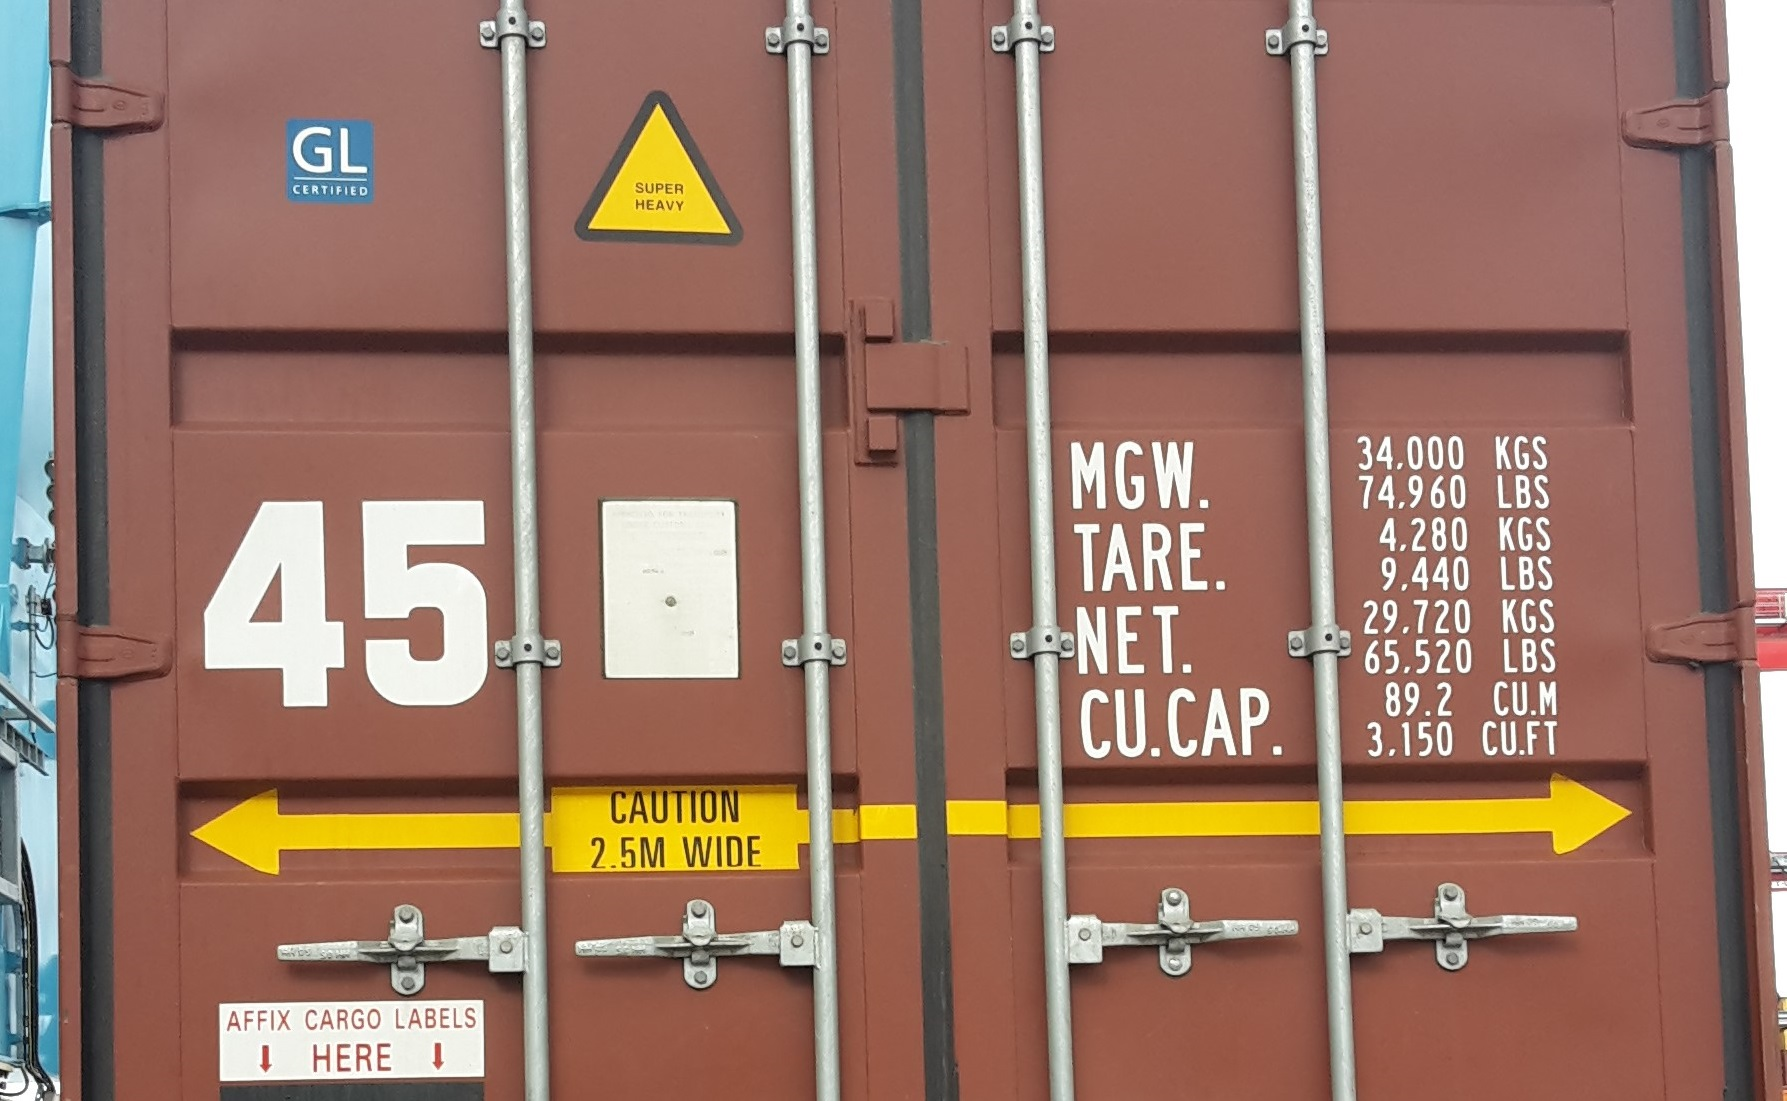container_door: (37, 1, 1777, 1101)
